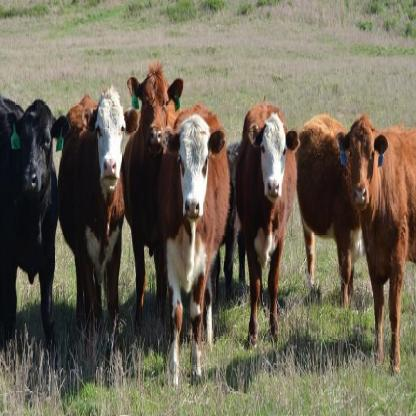cow: (57, 86, 141, 336), (338, 113, 416, 376), (162, 101, 230, 392), (0, 93, 71, 353), (121, 60, 184, 322), (234, 101, 300, 348), (296, 113, 362, 311)
